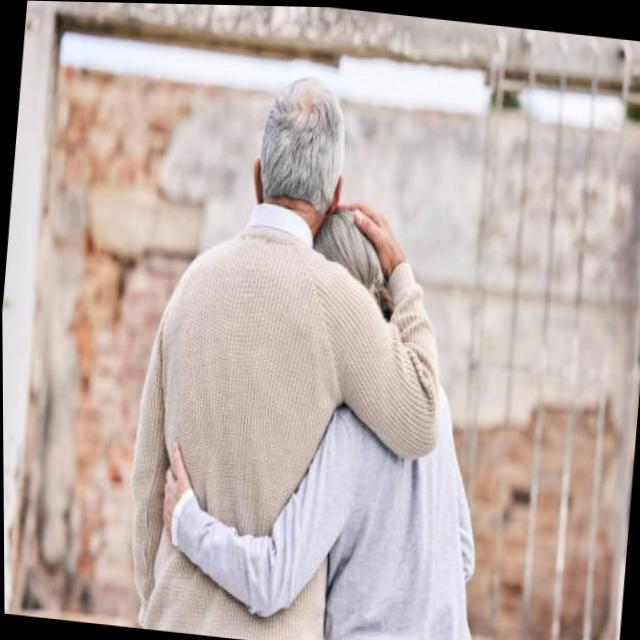no helmet: (237, 28, 368, 276)
